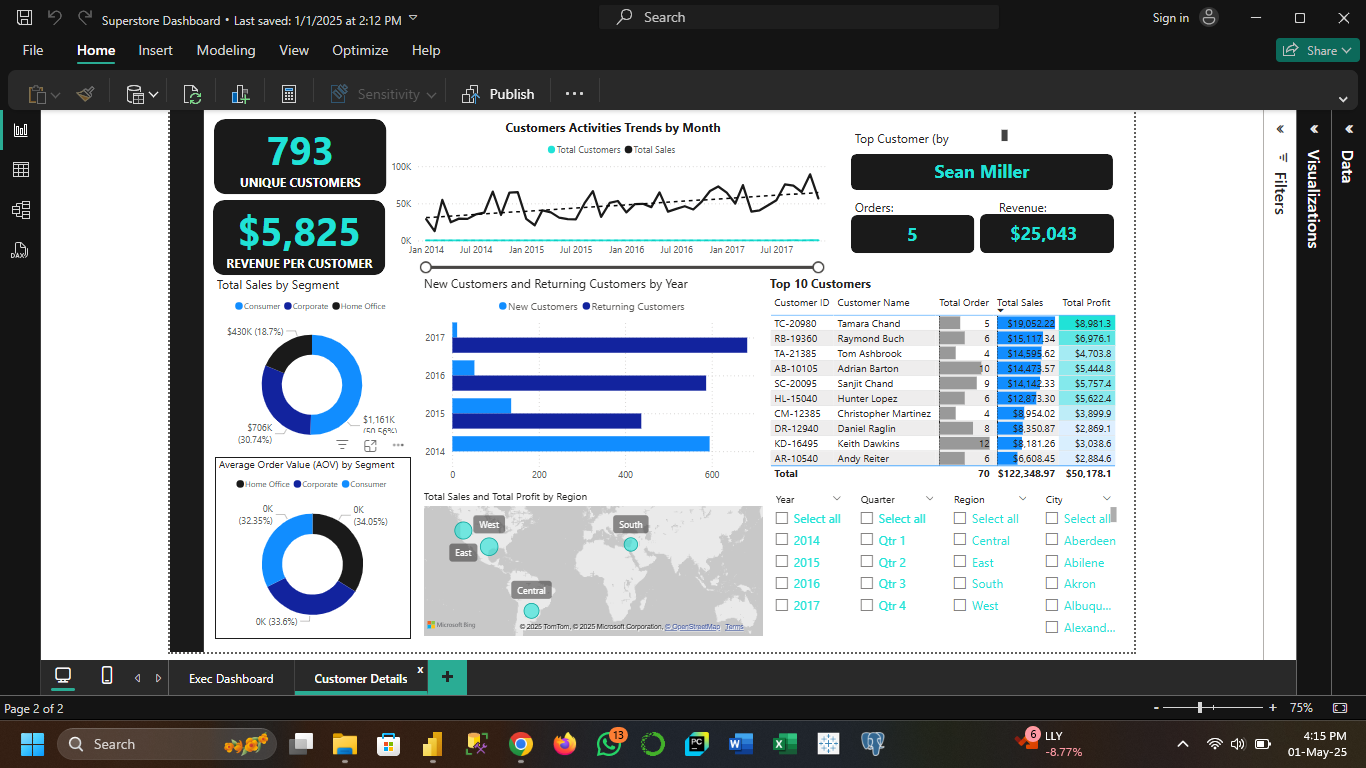

This screenshot's page, from the dashboard's own definition file:
{"tool":"powerbi","page":{"name":"Customer Details","canvas":[1280,720],"ordinal":1},"visuals":[{"type":"shape","title":"Left Background","box":[0,0,45,720],"z":0},{"type":"tableEx","title":"Top 10 Customers","fields":{"Values":["Sample - Superstore.Customer ID","Sample - Superstore.Customer Name","Measures (2).Total Order","Measures (2).Total Sales","Measures (2).Total Profit"]},"box":[791.7,219.6,470.5,283.8],"z":1000},{"type":"shape","box":[58.9,11.5,229.4,100.1],"z":2000},{"type":"card","fields":{"Values":["Measures (2).Total Customers"]},"box":[59.8,12,227.1,100.1],"z":3000},{"type":"shape","box":[57.2,119.5,229.4,100.1],"z":4000},{"type":"card","fields":{"Values":["Measures (2).Revenue Per Customer"]},"box":[58.1,120,227.1,100.1],"z":5000},{"type":"lineChart","title":"Customers Activities Trends by Month","fields":{"Category":["Sample - Superstore.Order Date.Variation.Date Hierarchy.Year","Sample - Superstore.Order Date.Variation.Date Hierarchy.Quarter","Sample - Superstore.Order Date.Variation.Date Hierarchy.Month","Sample - Superstore.Order Date.Variation.Date Hierarchy.Day"],"Y":["Measures (2).Total Customers","Measures (2).Total Sales"]},"box":[288.3,12,600.5,207.6],"z":6000},{"type":"donutChart","fields":{"Category":["Sample - Superstore.Segment"],"Y":["Measures (2).Total Sales"]},"box":[57.1,220,262.9,241.4],"z":7000},{"type":"textbox","box":[904.2,20.9,213.3,33.6],"z":8000},{"type":"textbox","box":[904.8,113.1,191.2,37.3],"z":9000},{"type":"textbox","box":[1096,113.1,158.3,37.3],"z":10000},{"type":"group","id":"g1","title":"Group 1","box":[904.8,57.8,348,47.8],"z":11000},{"type":"shape","box":[904.8,140,164.3,50.8],"z":12000},{"type":"shape","box":[1075.5,138.5,178.2,52],"z":13000,"group":"g2"},{"type":"card","fields":{"Values":["Measures (2).Total Order"]},"box":[904.8,140,164.3,52.3],"z":13000},{"type":"group","id":"g2","title":"Group 2","box":[1068.9,138.5,184.8,52.1],"z":14000},{"type":"card","fields":{"Values":["Measures (2).Total Sales"]},"box":[1068.9,138.5,183.4,52],"z":14000,"group":"g2"},{"type":"donutChart","fields":{"Category":["Sample - Superstore.Segment"],"Y":["Measures (2).Average Order Value (AOV)"]},"box":[60,461.4,260,241.4],"z":15000},{"type":"shape","box":[904.8,57.8,348,47.8],"z":16000,"group":"g1"},{"type":"clusteredBarChart","fields":{"Y":["Measures (2).New Customers","Measures (2).Returning Customers"],"Category":["Sample - Superstore.Order Date.Variation.Date Hierarchy.Year"]},"box":[331.6,219.6,460.1,283.8],"z":16000},{"type":"card","fields":{"Values":["Min(Sample - Superstore.Customer Name)"]},"box":[904.8,57.8,348,47.8],"z":17000,"group":"g1"},{"type":"map","fields":{"Category":["Sample - Superstore.Region"],"Size":["Measures (2).Total Sales"]},"box":[331.6,503.4,460.1,200.2],"z":17000},{"type":"slicer","fields":{"Values":["Sample - Superstore.Order Date.Variation.Date Hierarchy.Year"]},"box":[791.7,503.4,112,200.2],"z":18000},{"type":"slicer","fields":{"Values":["Sample - Superstore.Region"]},"box":[1027.7,503.4,122.5,200.2],"z":18001},{"type":"slicer","fields":{"Values":["Sample - Superstore.City"]},"box":[1150.2,503.4,112,200.2],"z":18002},{"type":"slicer","fields":{"Values":["Sample - Superstore.Order Date.Variation.Date Hierarchy.Quarter"]},"box":[905.2,503.4,122.5,200.2],"z":18003}]}

Visuals, with their boxes on the page's 1280x720 design canvas (x1, y1, x2, y2). These are canvas units, not pixel positions in the 1366x768 screenshot, which may show the page scaled, cropped or inside an application window:
"Left Background" shape: left=0, top=0, right=45, bottom=720
"Top 10 Customers" tableEx: left=792, top=220, right=1262, bottom=503
shape: left=59, top=12, right=288, bottom=112
card - Measures (2).Total Customers: left=60, top=12, right=287, bottom=112
shape: left=57, top=120, right=287, bottom=220
card - Measures (2).Revenue Per Customer: left=58, top=120, right=285, bottom=220
"Customers Activities Trends by Month" lineChart: left=288, top=12, right=889, bottom=220
donutChart - Sample - Superstore.Segment x Measures (2).Total Sales: left=57, top=220, right=320, bottom=461
textbox: left=904, top=21, right=1118, bottom=54
textbox: left=905, top=113, right=1096, bottom=150
textbox: left=1096, top=113, right=1254, bottom=150
"Group 1" group: left=905, top=58, right=1253, bottom=106
shape: left=905, top=140, right=1069, bottom=191
shape: left=1076, top=138, right=1254, bottom=190
card - Measures (2).Total Order: left=905, top=140, right=1069, bottom=192
"Group 2" group: left=1069, top=138, right=1254, bottom=191
card - Measures (2).Total Sales: left=1069, top=138, right=1252, bottom=190
donutChart - Sample - Superstore.Segment x Measures (2).Average Order Value (AOV): left=60, top=461, right=320, bottom=703
shape: left=905, top=58, right=1253, bottom=106
clusteredBarChart - Measures (2).New Customers x Measures (2).Returning Customers: left=332, top=220, right=792, bottom=503
card - Min(Sample - Superstore.Customer Name): left=905, top=58, right=1253, bottom=106
map - Sample - Superstore.Region x Measures (2).Total Sales: left=332, top=503, right=792, bottom=704
slicer - Sample - Superstore.Order Date.Variation.Date Hierarchy.Year: left=792, top=503, right=904, bottom=704
slicer - Sample - Superstore.Region: left=1028, top=503, right=1150, bottom=704
slicer - Sample - Superstore.City: left=1150, top=503, right=1262, bottom=704
slicer - Sample - Superstore.Order Date.Variation.Date Hierarchy.Quarter: left=905, top=503, right=1028, bottom=704
